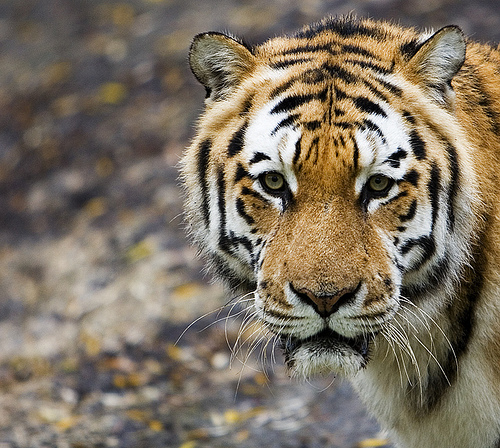Tigre: (197, 33, 500, 364)
